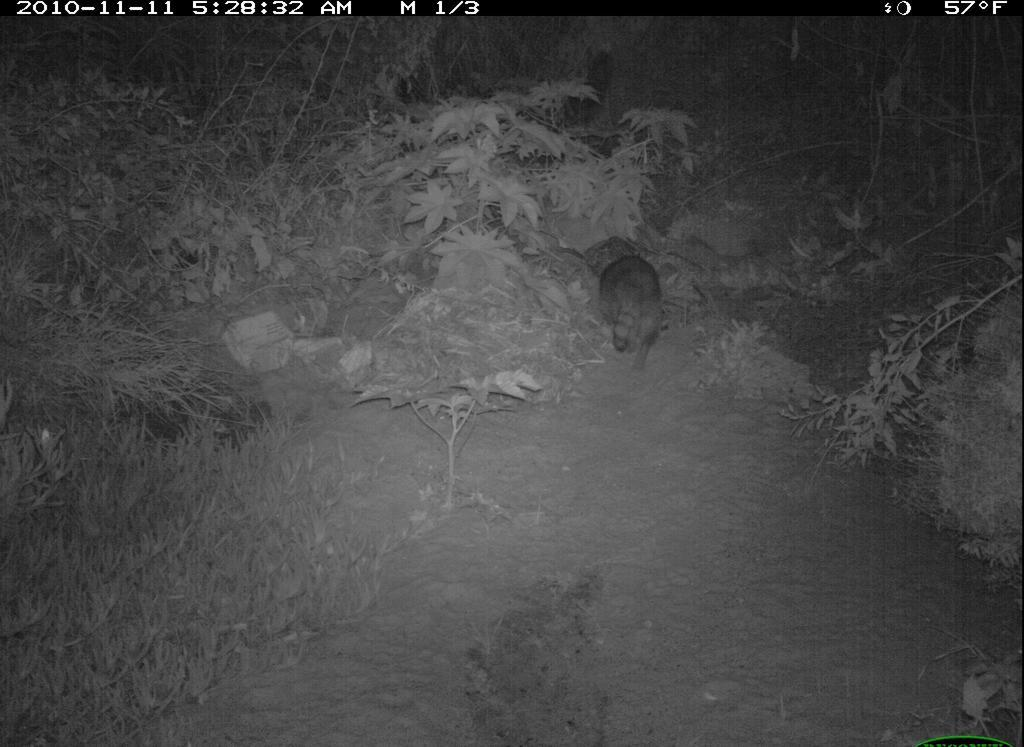raccoon: (591, 248, 673, 382)
